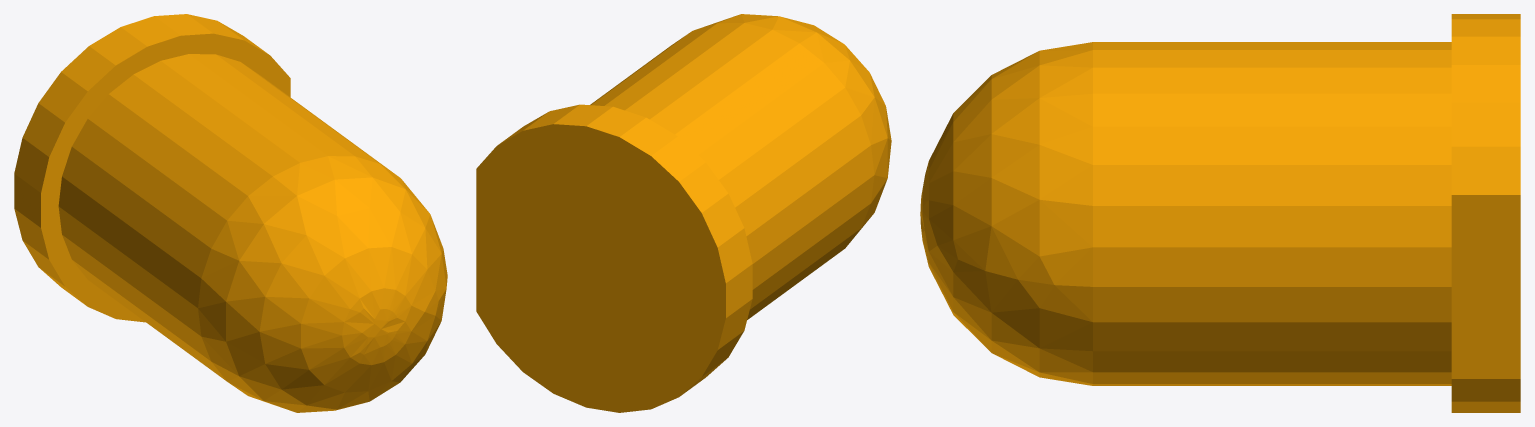
Rendered from LedNaranja.obj.
3 views of the same model, side by side, from view 1: azimuth 30°, elevation 25°; view 2: azimuth 150°, elevation 25°; view 3: azimuth 270°, elevation 25° (orthographic). The views are drawn at different scales.
Visible parts, largest first — view 1: LedNaranja; view 2: LedNaranja; view 3: LedNaranja.
Boxes of the visible parts, x1=… form: LedNaranja: x1=14, y1=14, x2=447, y2=412; LedNaranja: x1=476, y1=14, x2=891, y2=412; LedNaranja: x1=920, y1=14, x2=1520, y2=412.
Bounding box in the file's own units: 0.00782 × 0.00842 × 0.0126.
